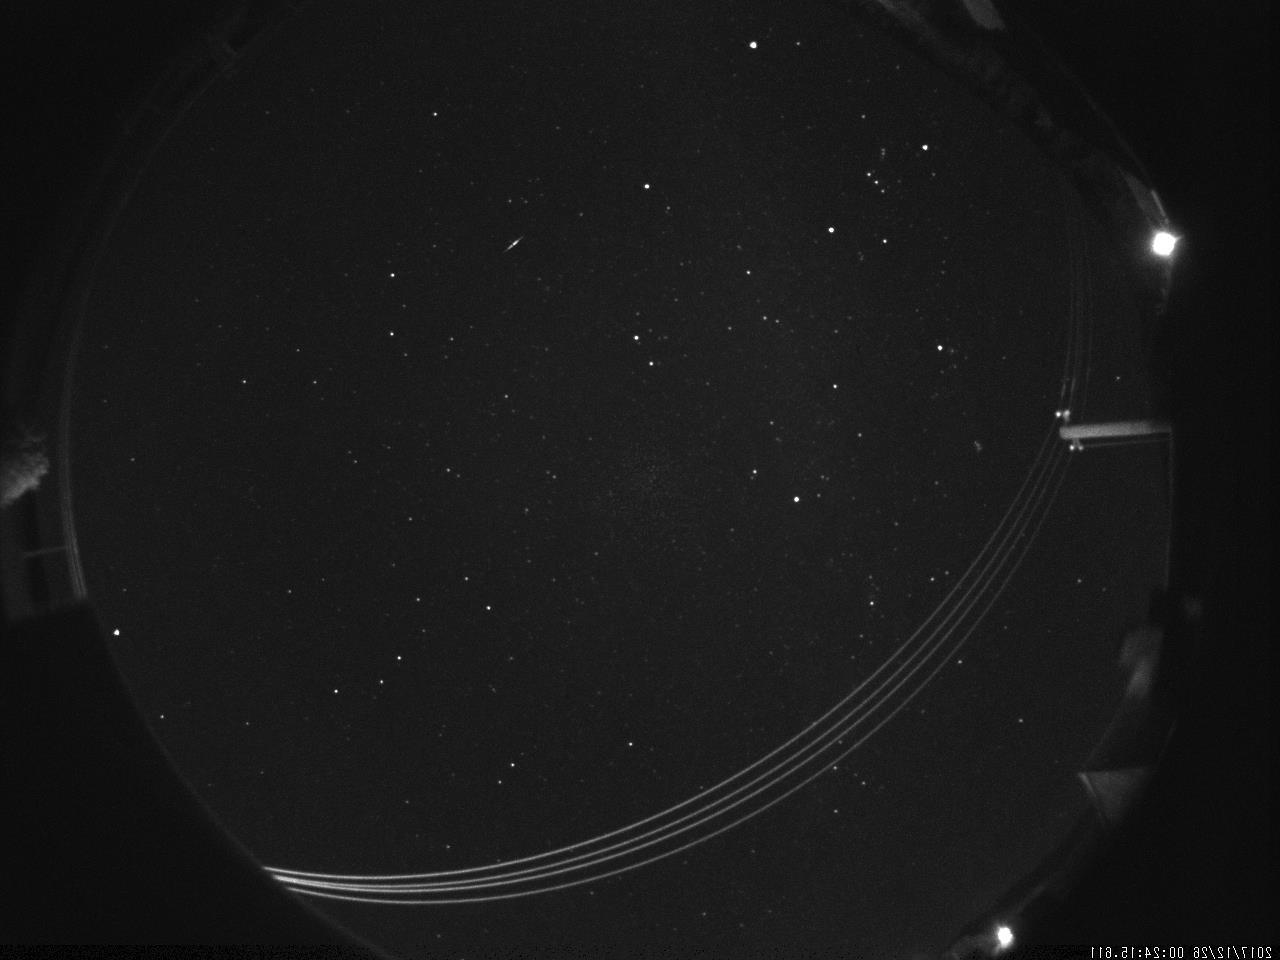meteor: (493, 227, 528, 265)
